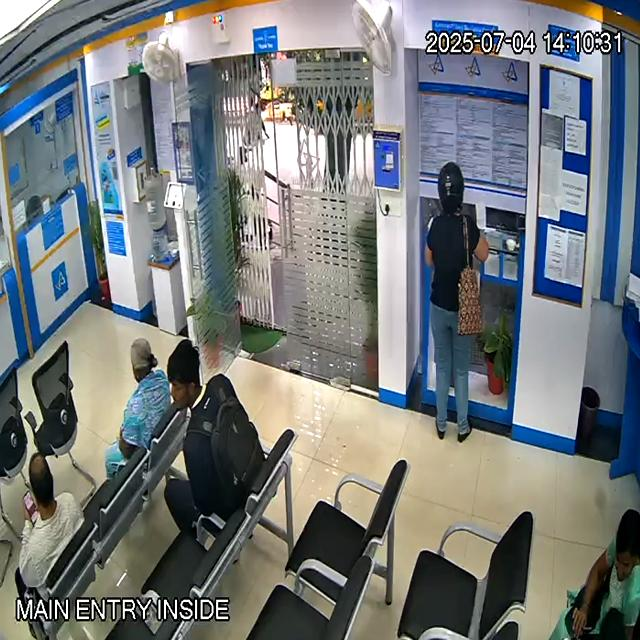helmet: (438, 161, 464, 214)
no_helmet: (166, 339, 202, 409), (28, 452, 56, 520), (615, 509, 640, 582), (130, 337, 158, 382)
